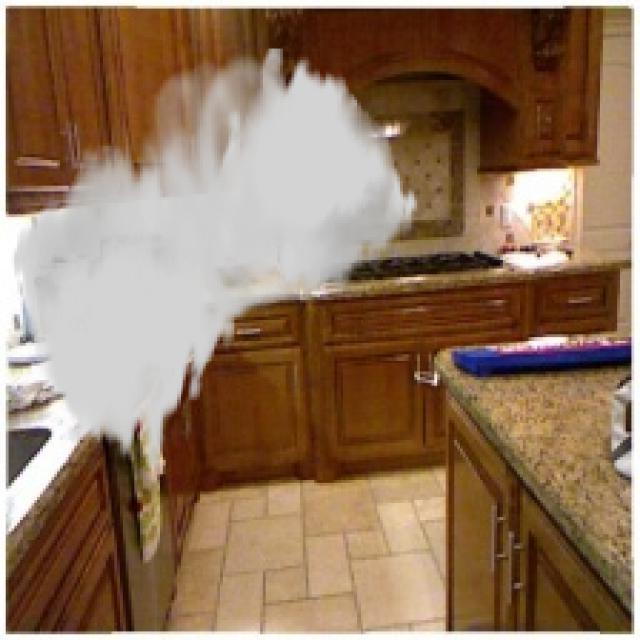smoke: (11, 46, 420, 468)
